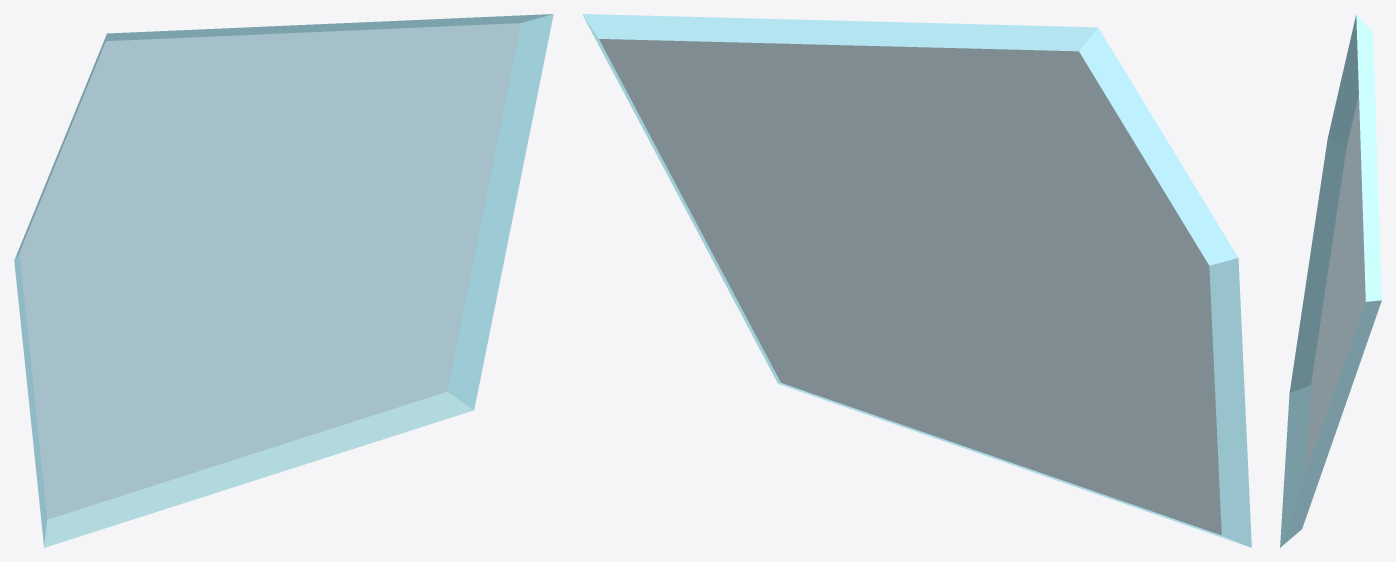
File: snow_globe_shard_right.glb
3 views of the same model, side by side, from view 1: azimuth 30°, elevation 25°; view 2: azimuth 150°, elevation 25°; view 3: azimuth 270°, elevation 25° (orthographic). The views are drawn at different scales.
Visible parts, largest first — view 1: New faceted glass segment.003; view 2: New faceted glass segment.003; view 3: New faceted glass segment.003.
Part boxes in pixels (box(x1,y1,x2,y2)): New faceted glass segment.003: box(14, 14, 553, 547); New faceted glass segment.003: box(582, 14, 1251, 547); New faceted glass segment.003: box(1280, 14, 1381, 547).
Size of the model in its own units: 0.062 by 0.049 by 0.0107.
